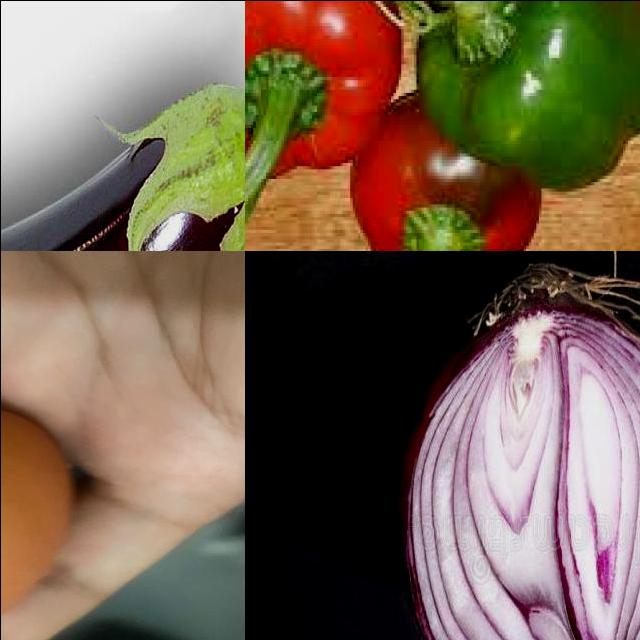bell_pepper: (406, 1, 640, 192)
egg: (1, 396, 93, 640)
eggplant: (1, 65, 245, 251)
onion: (406, 258, 640, 640)
